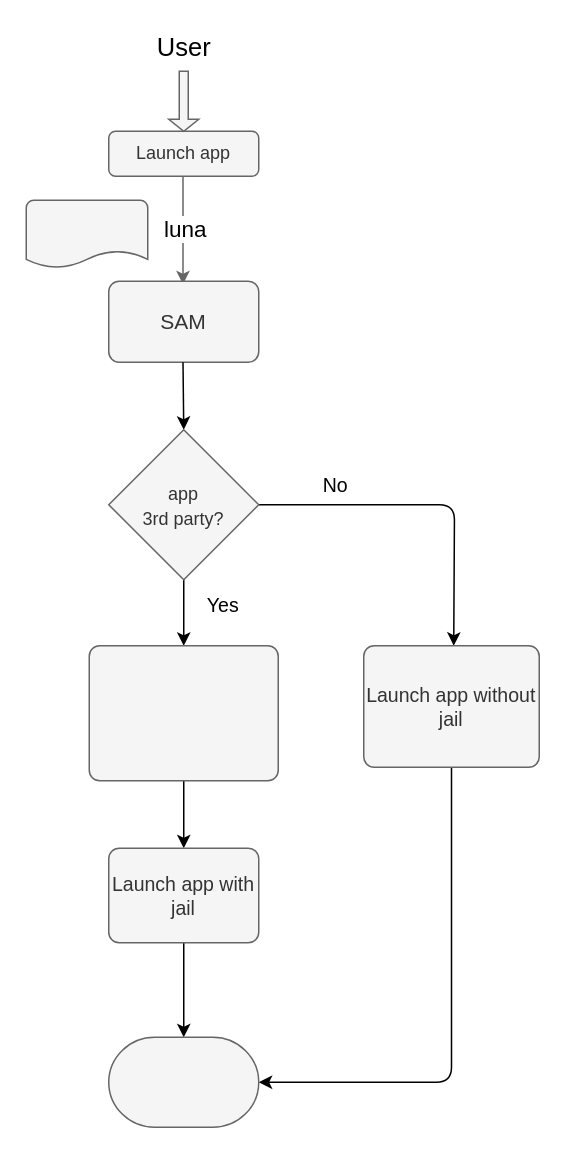
This 566x1154 diagram has some shape labels left out. Here are the shapes that lost their labels. From the top down, the box of each, then its label:
(25, 199, 148, 268): app_id app_params
(88, 644, 278, 781): Derive app type, set arguments to run with jailer
(107, 1036, 259, 1127): Done
